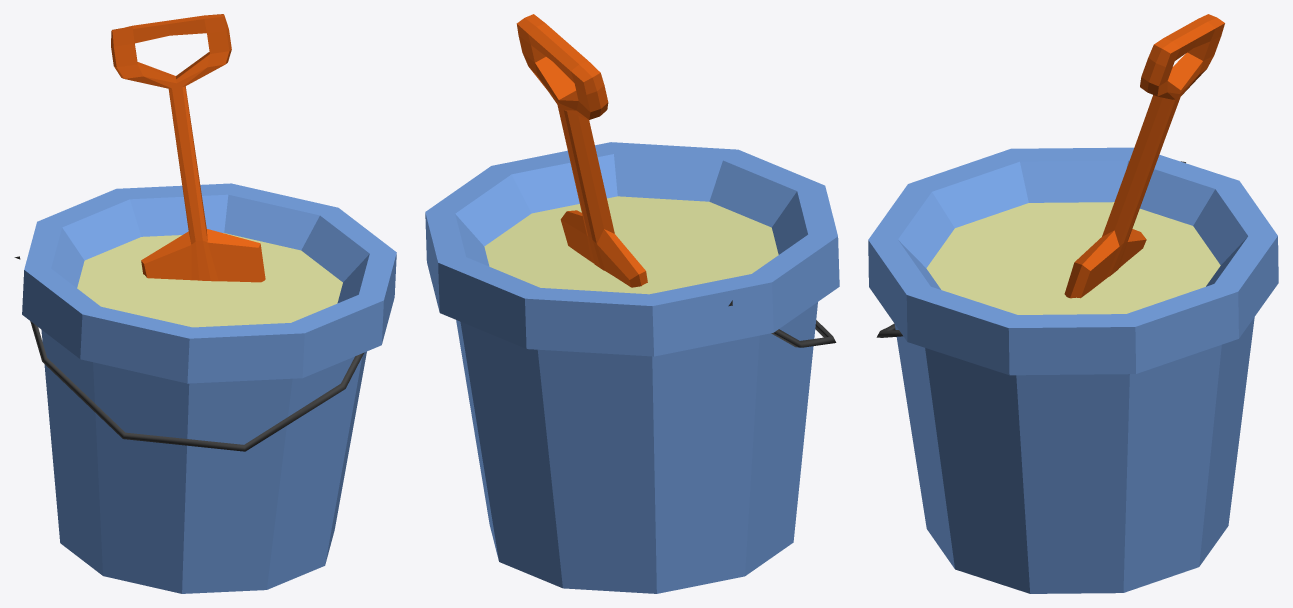
Rendered from model_sable.gltf.
The picture shows the model from 3 angles, left to right: view 1: azimuth 30°, elevation 25°; view 2: azimuth 150°, elevation 25°; view 3: azimuth 270°, elevation 25°; orthographic projection. The views are drawn at different scales.
Visible parts, largest first — view 1: model_sable; view 2: model_sable; view 3: model_sable.
Part boxes in pixels (x1=…): model_sable: x1=14, y1=14, x2=396, y2=593; model_sable: x1=425, y1=14, x2=839, y2=593; model_sable: x1=868, y1=14, x2=1278, y2=593.
Size of the model in its own units: 0.5009 by 0.7292 by 0.5203.
